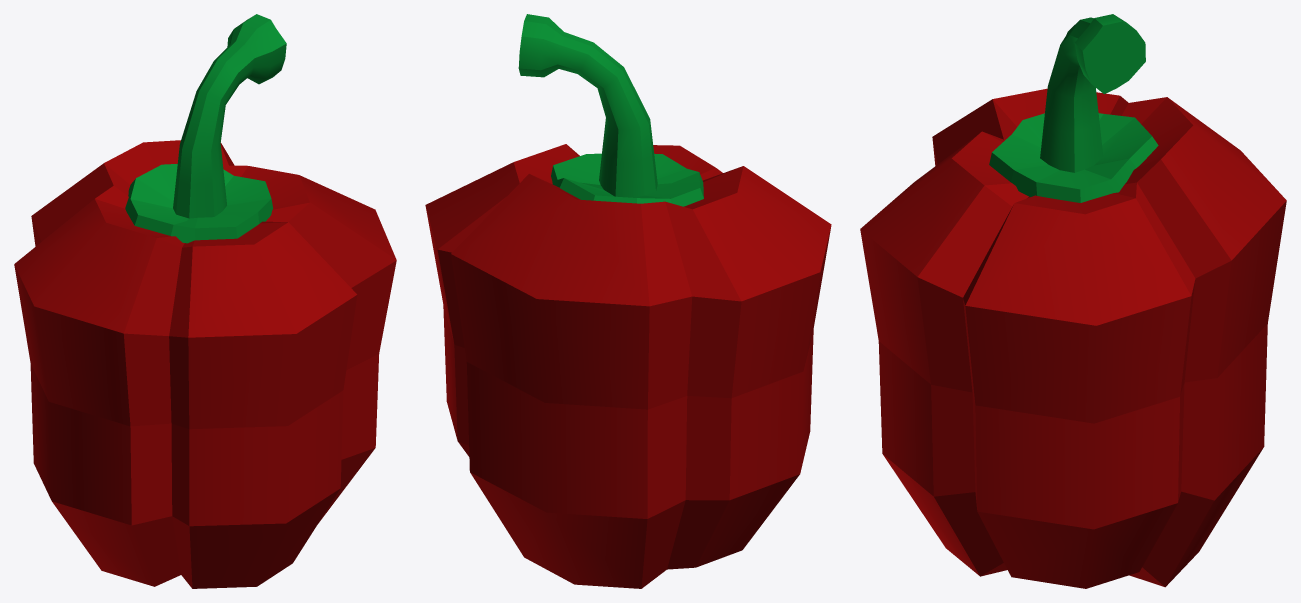
The model's file is BellPepper.fbx.
3 views of the same model, side by side, from view 1: azimuth 30°, elevation 25°; view 2: azimuth 150°, elevation 25°; view 3: azimuth 270°, elevation 25° (orthographic). The views are drawn at different scales.
Visible parts, largest first — view 1: Pepper, Stem; view 2: Pepper, Stem; view 3: Pepper, Stem.
Boxes of the visible parts, bbox=[...] form: Pepper: bbox=[14, 140, 396, 588]; Stem: bbox=[125, 14, 286, 243]; Pepper: bbox=[425, 144, 831, 588]; Stem: bbox=[518, 14, 703, 206]; Pepper: bbox=[860, 88, 1286, 588]; Stem: bbox=[989, 14, 1158, 202].
Bounding box in the file's own units: 10.02 × 13.29 × 8.92.
